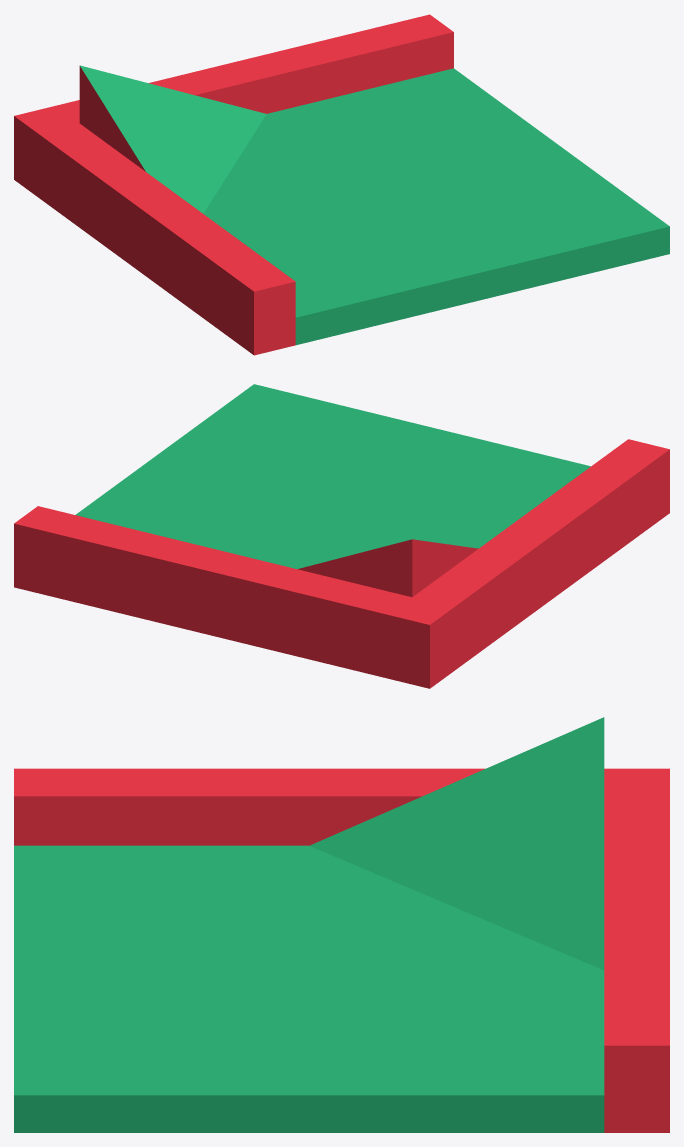
Rendered from hillCorner.dae.
3 views of the same model, one above another, from view 1: azimuth 30°, elevation 25°; view 2: azimuth 150°, elevation 25°; view 3: azimuth 270°, elevation 25° (orthographic). The views are drawn at different scales.
Visible parts, largest first — view 1: hillCorner; view 2: hillCorner; view 3: hillCorner.
Part boxes in pixels (<box>): hillCorner: <box>14,14,669,355</box>; hillCorner: <box>14,384,669,688</box>; hillCorner: <box>14,717,669,1132</box>.
Size of the model in its own units: 0.9999 by 0.28 by 0.9999.
